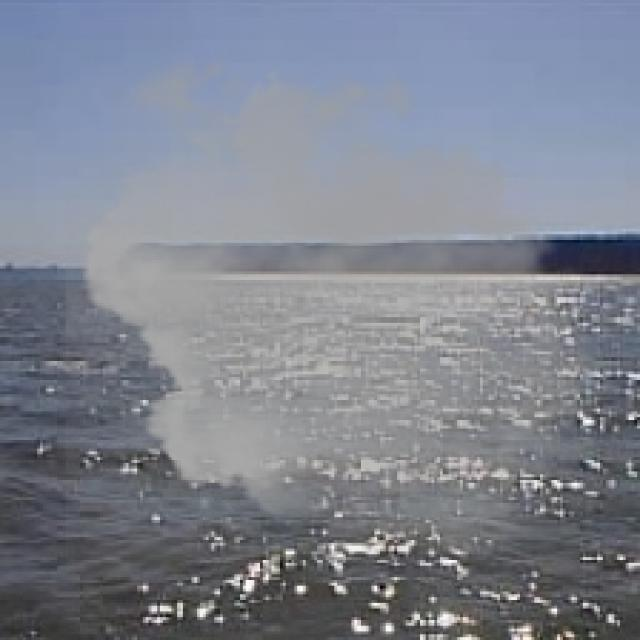smoke: (66, 40, 634, 571)
